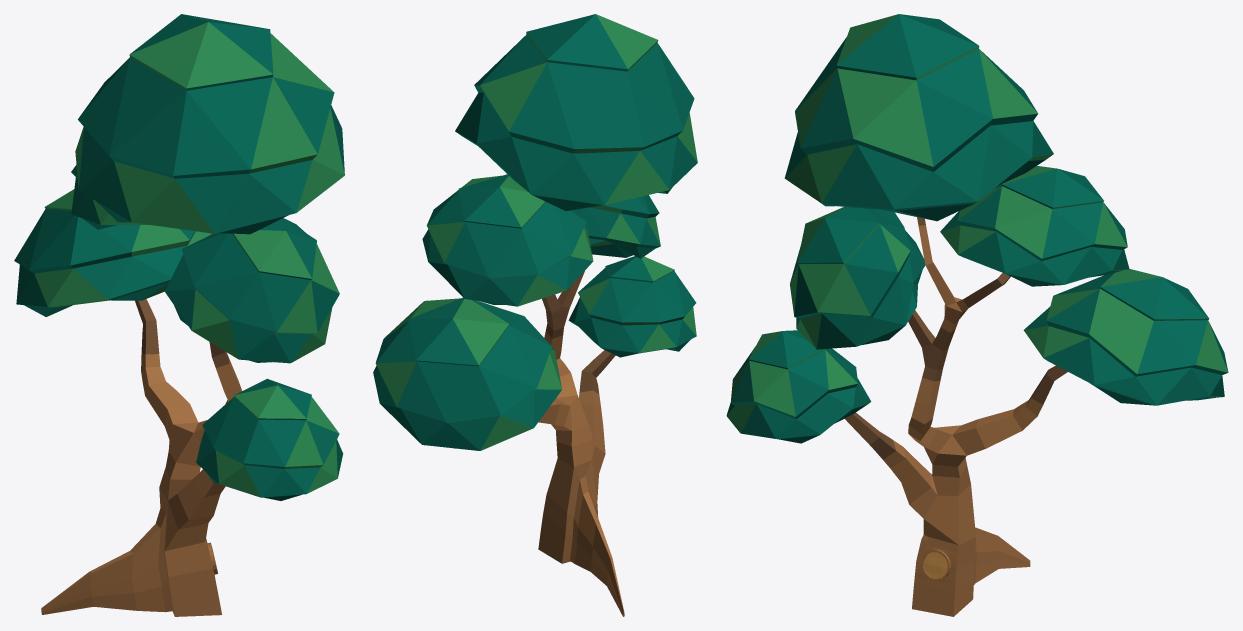
File: arbol rio.fbx
3 renders of one model, left to right at view 1: azimuth 30°, elevation 25°; view 2: azimuth 150°, elevation 25°; view 3: azimuth 270°, elevation 25°, orthographic. The views are drawn at different scales.
Visible parts, largest first — view 1: Icosphere.001, Cube; view 2: Icosphere.001, Cube; view 3: Icosphere.001, Cube.
Part boxes in pixels (x1=…): Icosphere.001: x1=14, y1=14, x2=344, y2=500; Cube: x1=41, y1=233, x2=241, y2=616; Icosphere.001: x1=373, y1=14, x2=697, y2=450; Cube: x1=538, y1=271, x2=624, y2=616; Icosphere.001: x1=726, y1=14, x2=1228, y2=443; Cube: x1=844, y1=217, x2=1067, y2=616.
Size of the model in its own units: 563 by 1392 by 1056.
